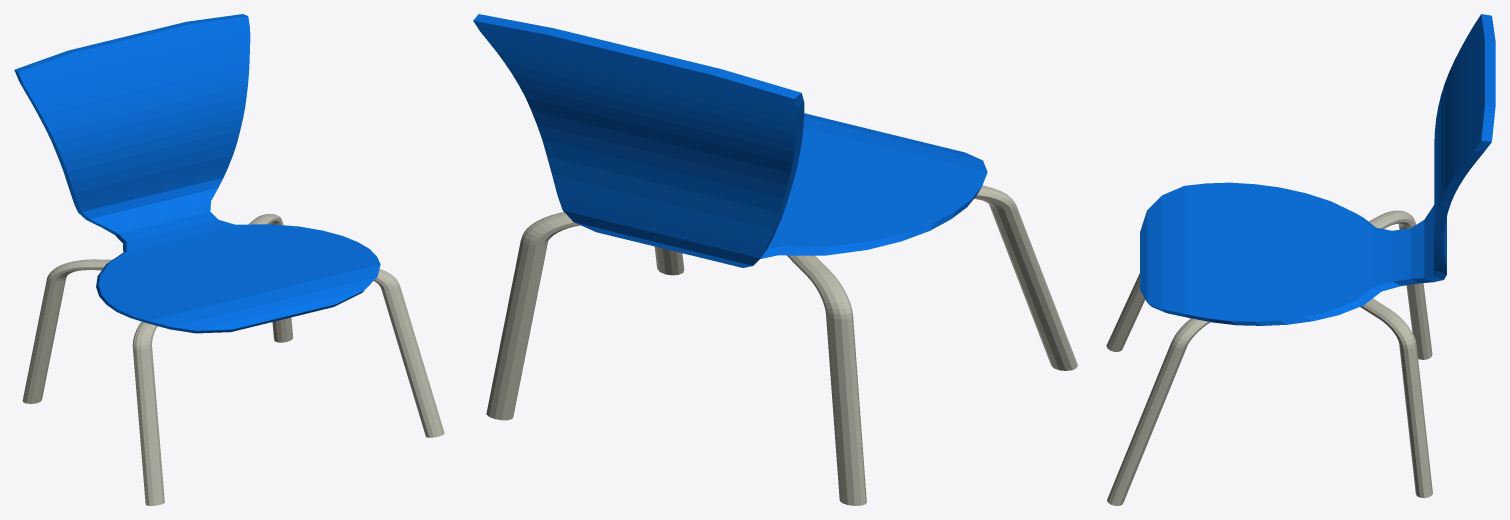
The model's file is sh-kl-dining-chair.glb.
The picture shows the model from 3 angles, left to right: view 1: azimuth 30°, elevation 25°; view 2: azimuth 150°, elevation 25°; view 3: azimuth 270°, elevation 25°; orthographic projection. The views are drawn at different scales.
Visible parts, largest first — view 1: Dining_chair_Dining_chair_Dining_chair, Dining_chair_Dining_chair_Chrome; view 2: Dining_chair_Dining_chair_Dining_chair, Dining_chair_Dining_chair_Chrome; view 3: Dining_chair_Dining_chair_Dining_chair, Dining_chair_Dining_chair_Chrome.
Boxes of the visible parts, x1=… form: Dining_chair_Dining_chair_Dining_chair: x1=14, y1=14, x2=380, y2=333; Dining_chair_Dining_chair_Chrome: x1=22, y1=214, x2=444, y2=505; Dining_chair_Dining_chair_Dining_chair: x1=473, y1=14, x2=987, y2=267; Dining_chair_Dining_chair_Chrome: x1=486, y1=185, x2=1077, y2=505; Dining_chair_Dining_chair_Dining_chair: x1=1140, y1=14, x2=1495, y2=325; Dining_chair_Dining_chair_Chrome: x1=1106, y1=210, x2=1432, y2=505.
Bounding box in the file's own units: 1 × 1 × 1.
